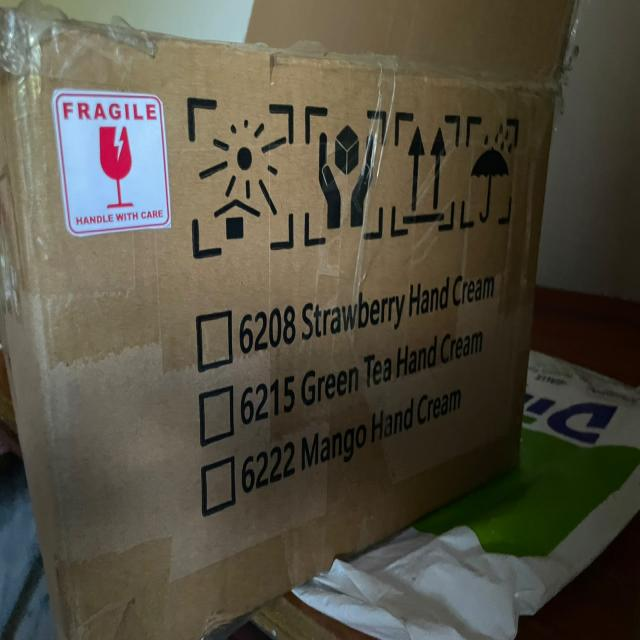carton_box: (0, 0, 587, 640)
fragile_label: (51, 86, 177, 237)
handle_with_care_label: (304, 98, 391, 244)
keep_dry_label: (460, 111, 523, 234)
protect_from_heat_label: (188, 91, 297, 261)
this_side_up_label: (393, 107, 463, 234)
